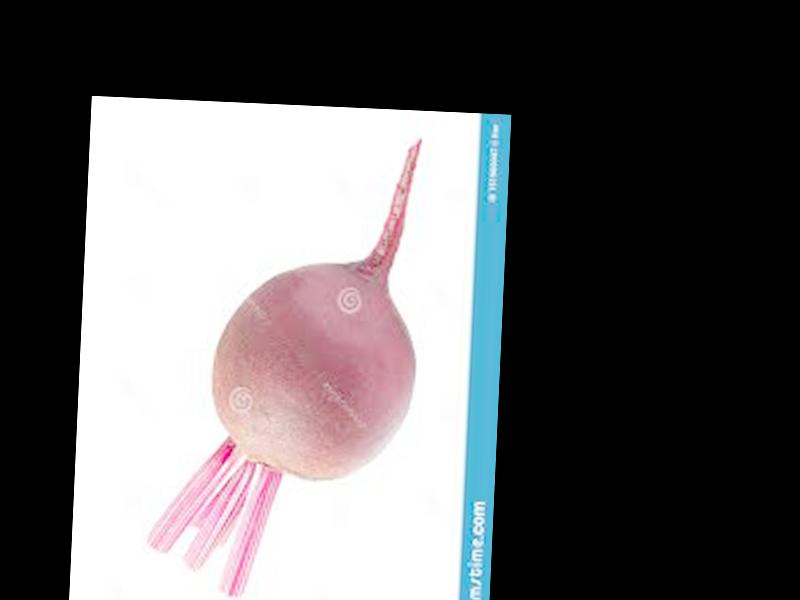Beet: (147, 131, 422, 600)
